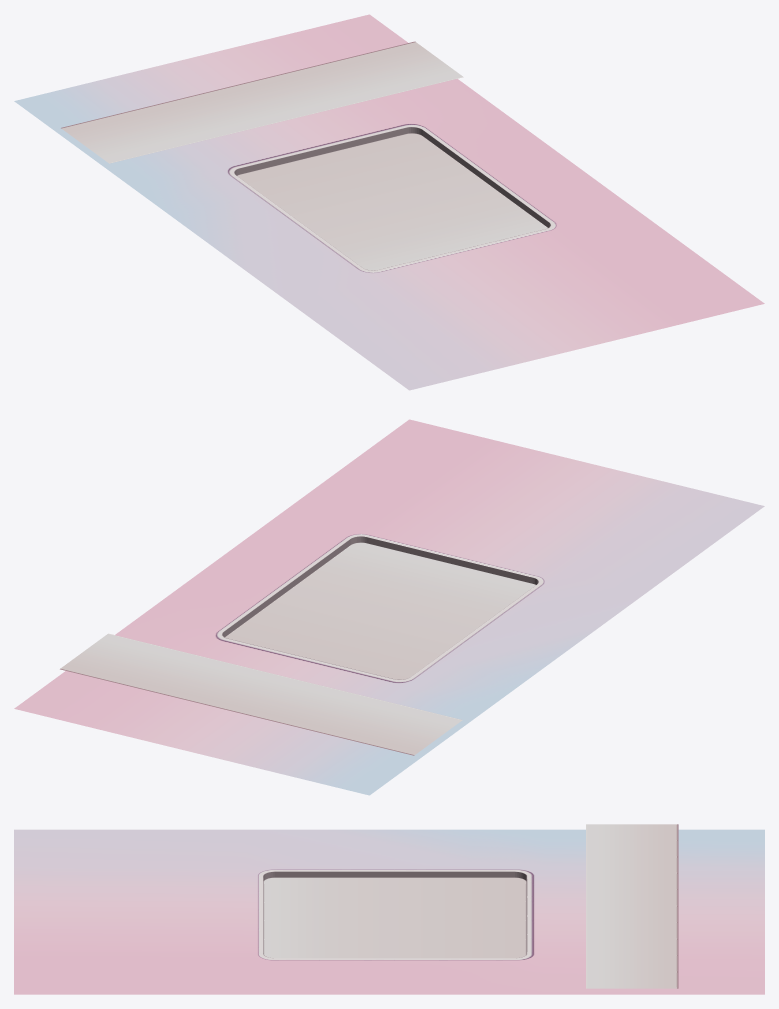
The picture shows the model from 3 angles, top to bottom: view 1: azimuth 30°, elevation 25°; view 2: azimuth 150°, elevation 25°; view 3: azimuth 270°, elevation 25°; orthographic projection. The views are drawn at different scales.
Parts seen in each view (by area): view 1: BG, Small_Tiles_bg; view 2: BG, Small_Tiles_bg; view 3: BG, Small_Tiles_bg.
Boxes of the visible parts, <box> form: BG: <box>14,14,764,390</box>; Small_Tiles_bg: <box>61,41,463,163</box>; BG: <box>14,419,764,795</box>; Small_Tiles_bg: <box>60,633,462,755</box>; BG: <box>14,829,764,994</box>; Small_Tiles_bg: <box>586,824,678,988</box>.
Size of the model in its own units: 35.4 by 1.17 by 68.16.
Materials: 2 (2 with a texture image).
